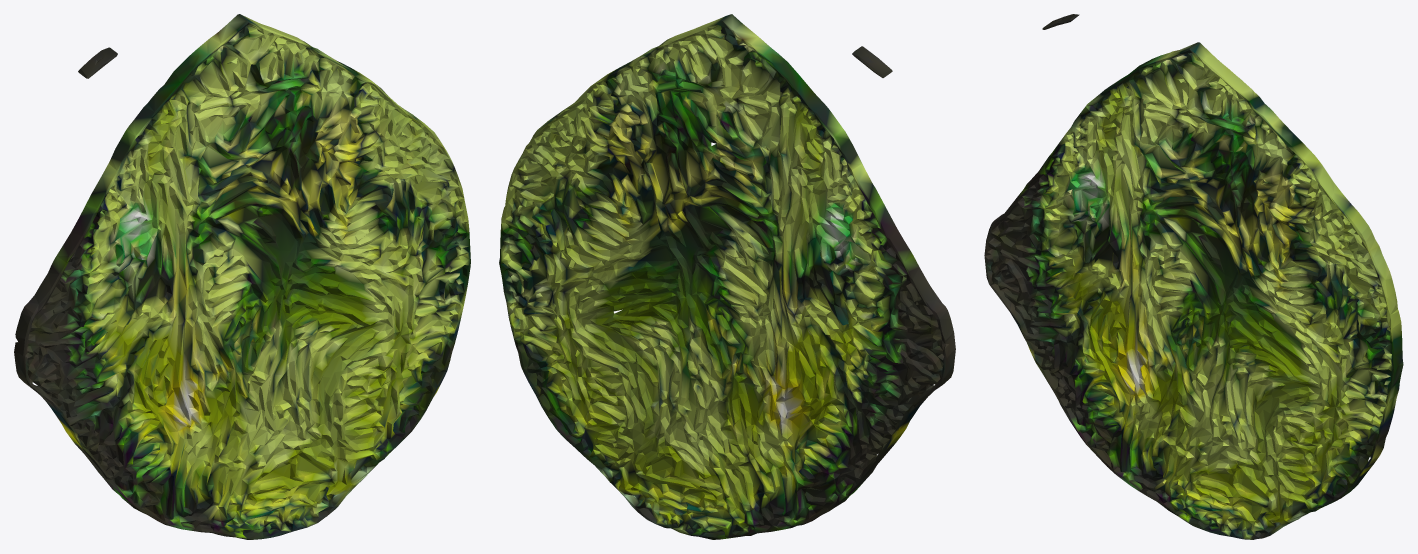
Rendered from darkWizard.glb.
3 views of the same model, side by side, from view 1: azimuth 30°, elevation 25°; view 2: azimuth 150°, elevation 25°; view 3: azimuth 330°, elevation 25° (orthographic). The views are drawn at different scales.
Parts seen in each view (by area): view 1: world; view 2: world; view 3: world.
Boxes of the visible parts, <box> form: world: <box>14,14,470,539</box>; world: <box>499,14,955,539</box>; world: <box>984,14,1403,539</box>.
Bounding box in the file's own units: 0.8959 × 1 × 0.0408.
